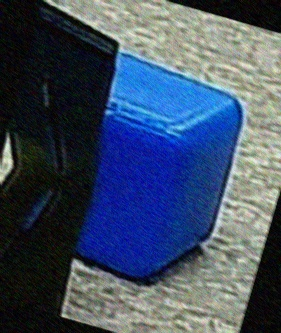blue_cube: (93, 56, 256, 299)
